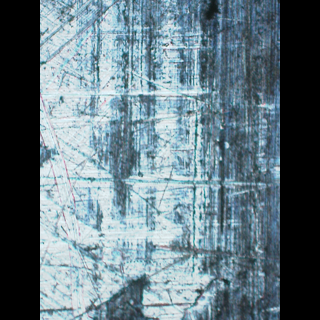d: (40, 0, 242, 316)
